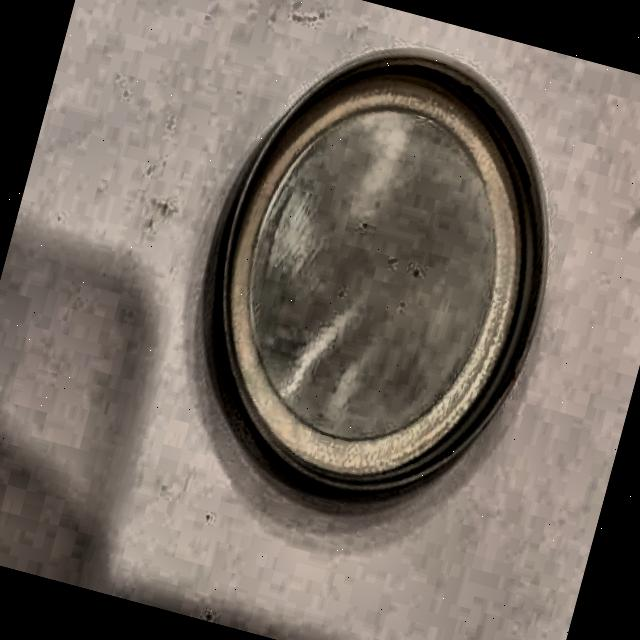metal: (155, 9, 602, 536)
